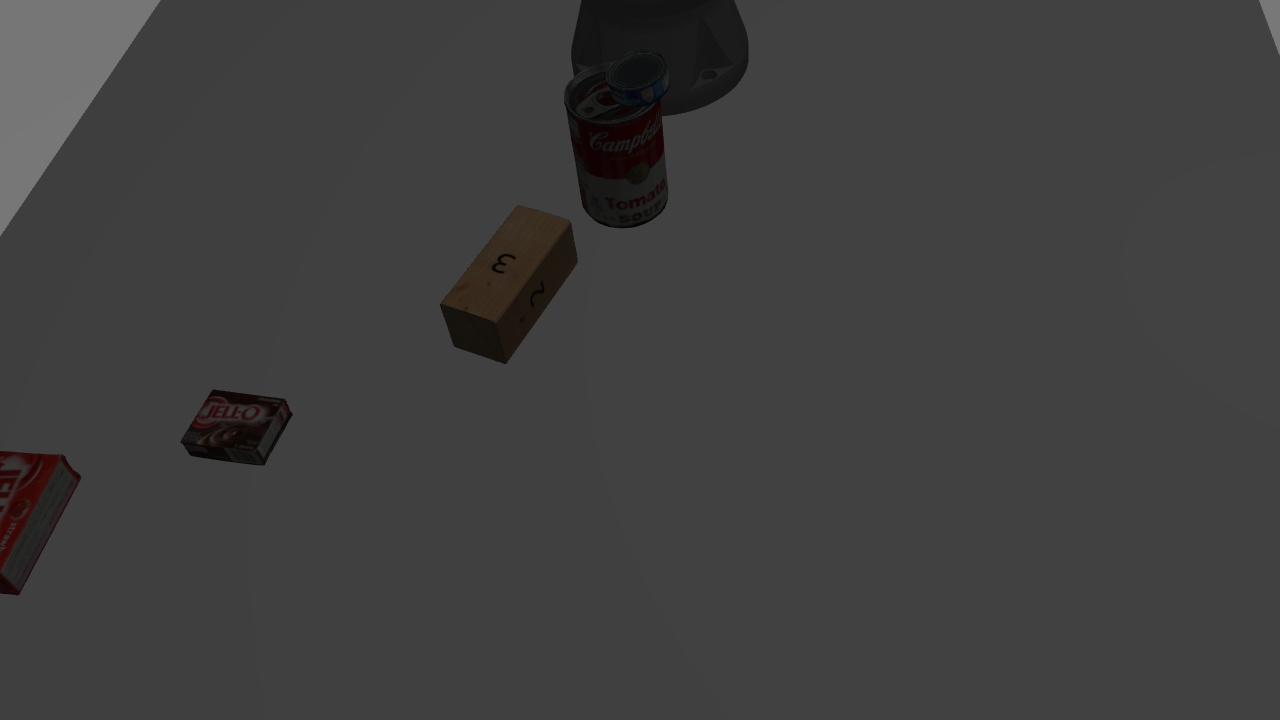gelatin_box: (2, 443, 94, 592), (4, 439, 89, 595)
pudding_box: (179, 381, 293, 468)
tomato_soup_can: (557, 68, 692, 229)
wood_block: (437, 202, 579, 366)
